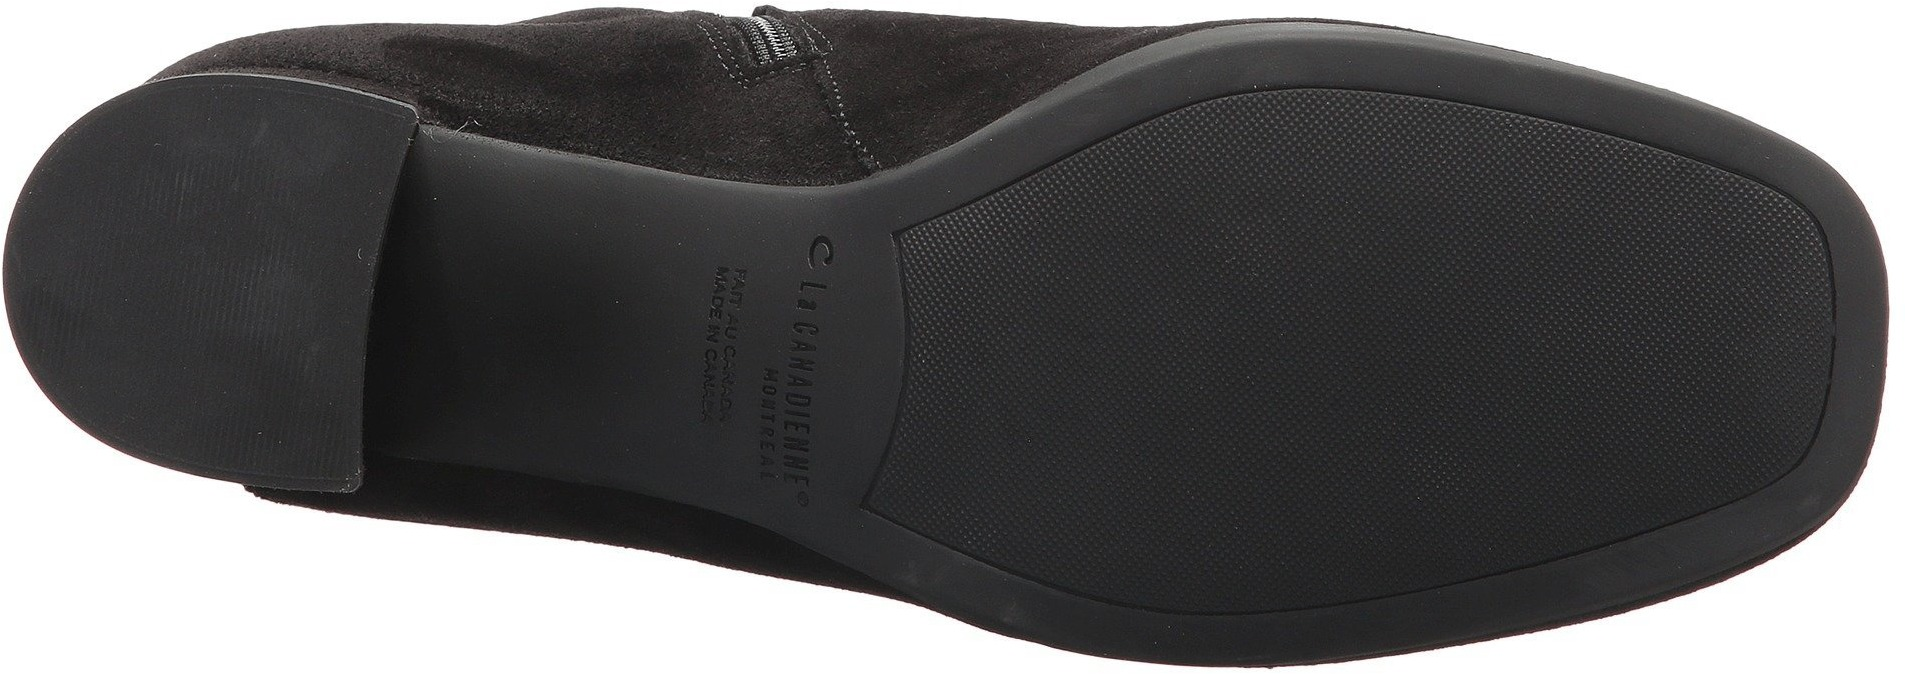exclude: (355, 106, 685, 616)
other: (1130, 141, 1463, 427), (1471, 157, 1764, 441), (70, 176, 300, 410), (910, 228, 1123, 410), (1002, 420, 1160, 591), (1227, 440, 1383, 588), (1406, 455, 1541, 568)
text: (694, 364, 843, 511), (699, 217, 848, 358)
